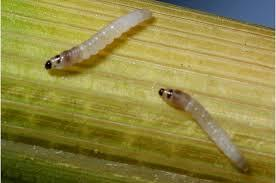insect: (156, 85, 256, 176), (43, 7, 153, 73)
